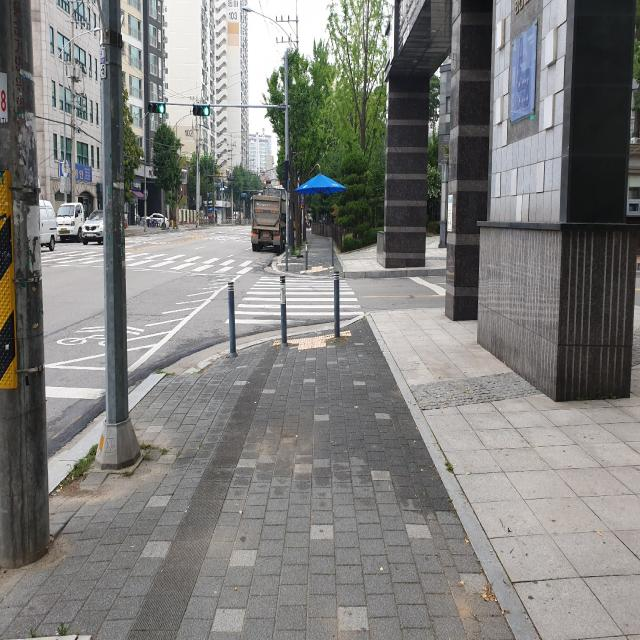횡단보도: (224, 276, 365, 326), (45, 251, 252, 278)
